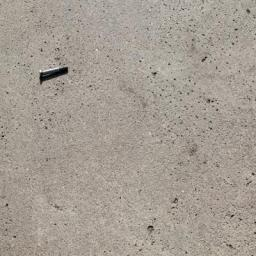FOD: (36, 63, 75, 85)
